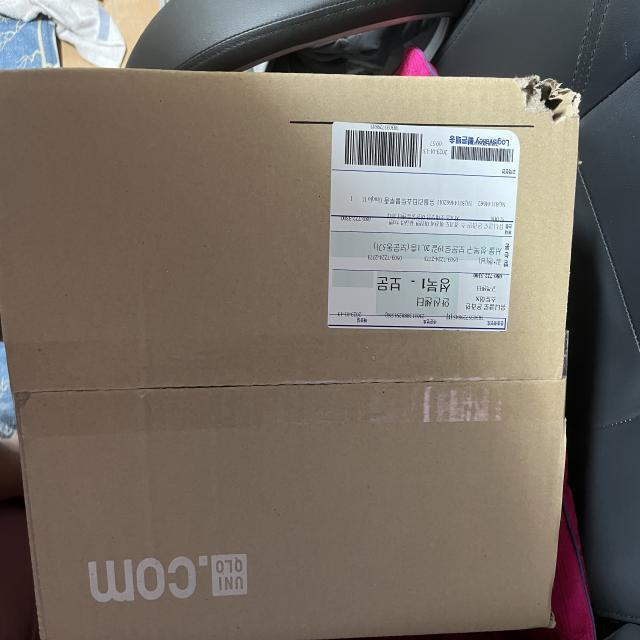hole: (515, 81, 574, 119)
